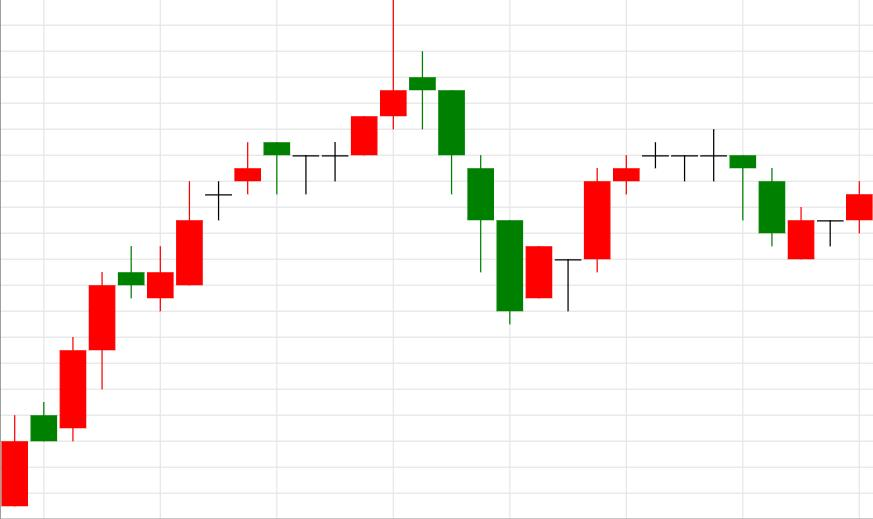three_white_soldiers_rise: (147, 0, 407, 311)
